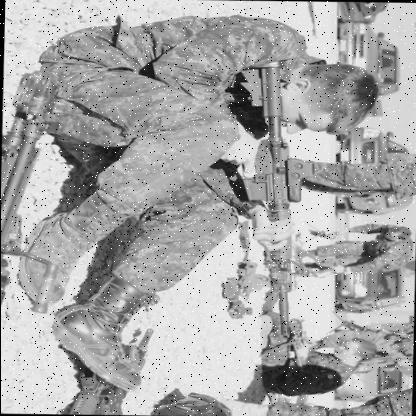rifle: (237, 63, 307, 336)
